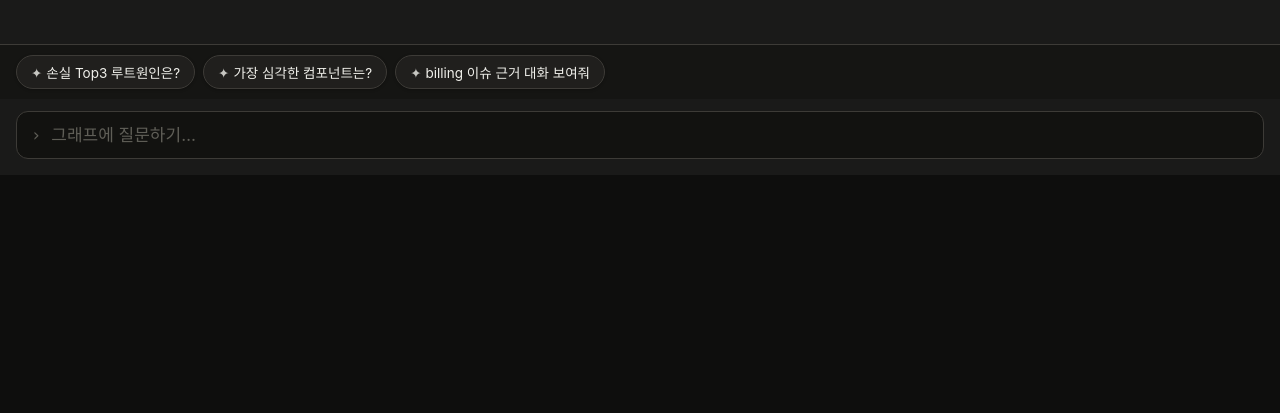
it: ChatStream › should still complete the trace and render the refuse answer when arms is empty
In the field with placeholder "그래프에 질문하기…": [649, 135] box x1=49 y1=124 x2=1249 y2=146, type "우주의 끝은?"
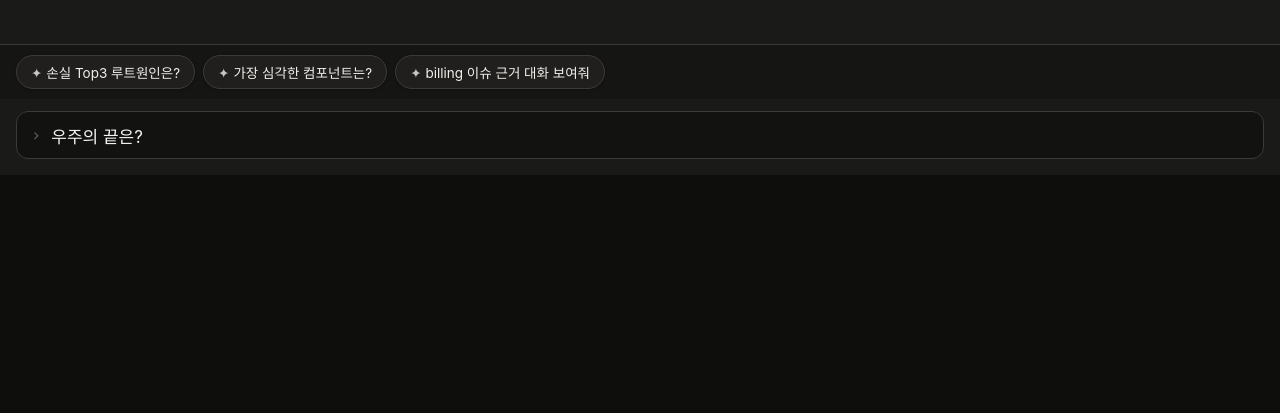
Submit the form with placeholder "질문", box x1=0 y1=99 x2=1279 y2=175
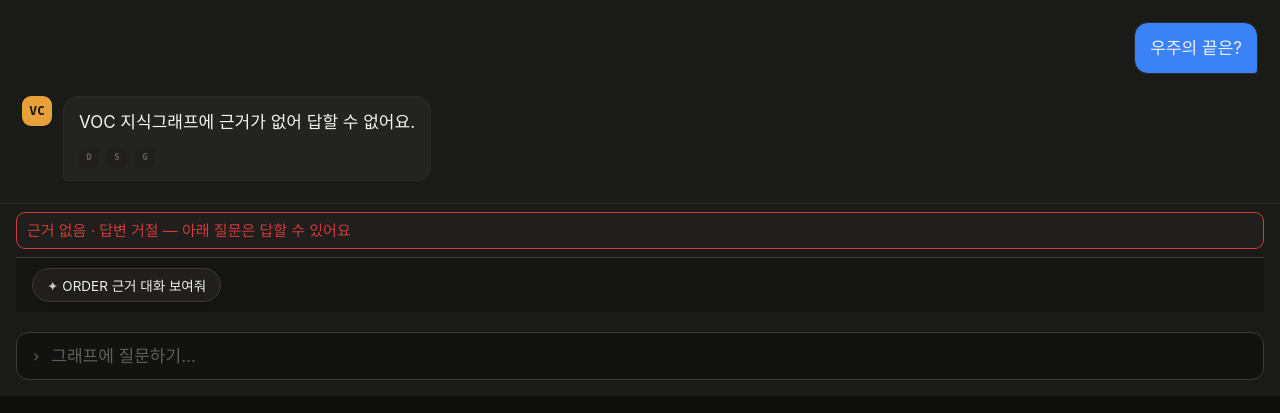
Expected: the text "VOC 지식그래프에 근거가 없어 답할 수 없어요." is shown, x1=79 y1=109 x2=415 y2=136
